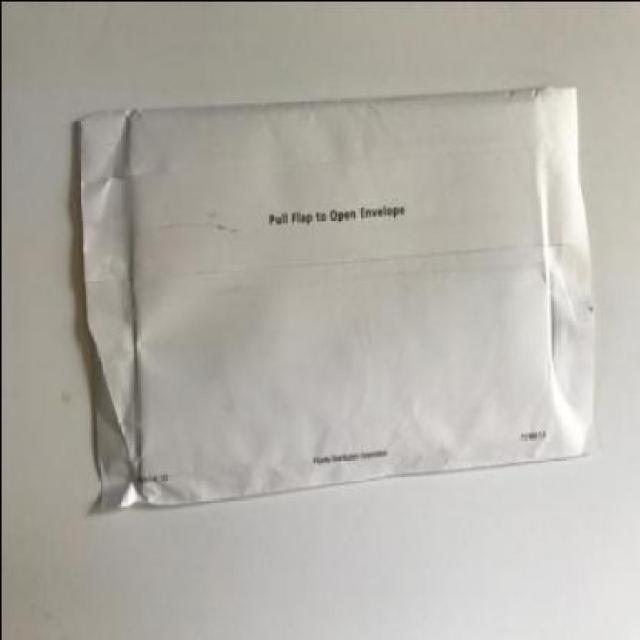cardboard: (75, 84, 596, 510)
